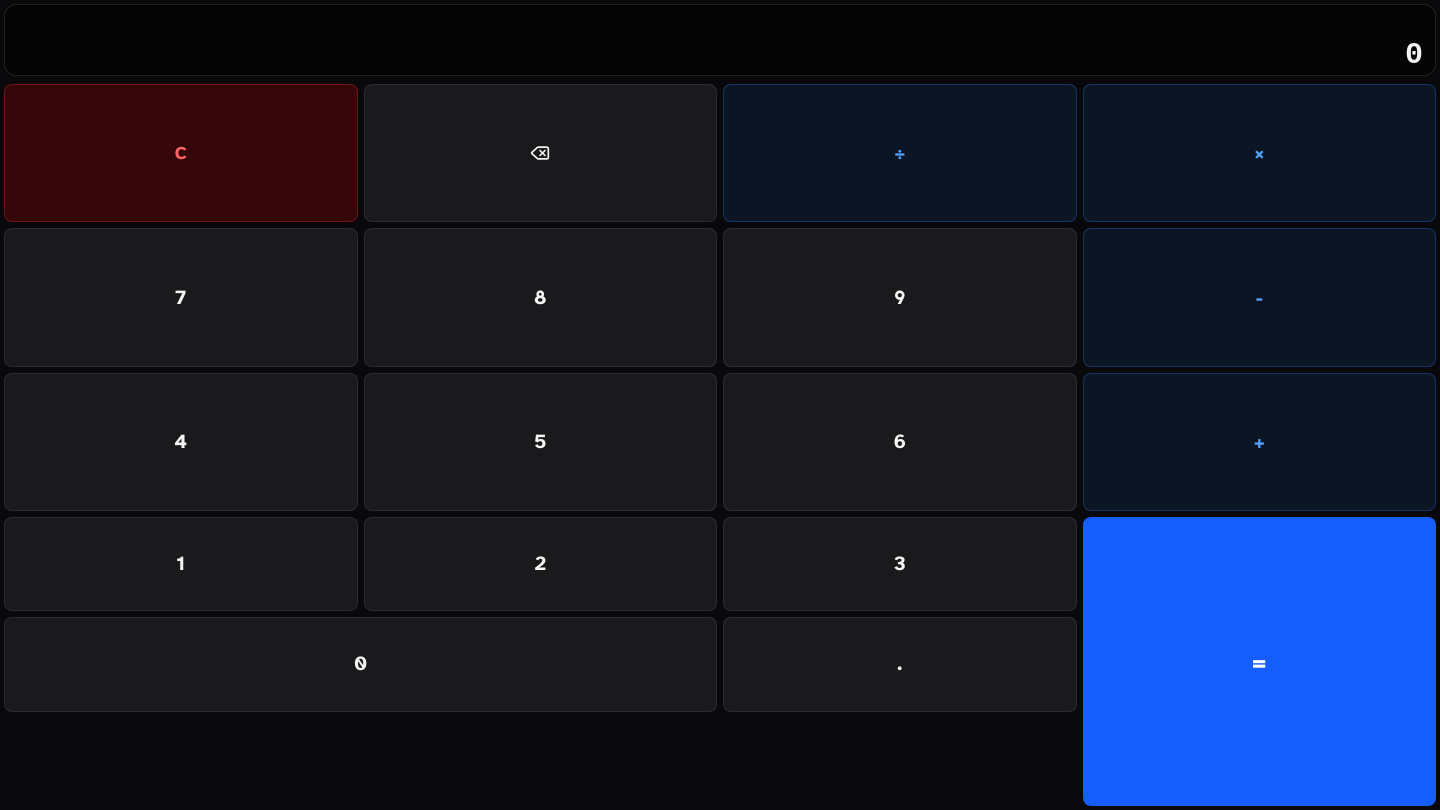
Test: CalculatorWidget › handles basic addition correctly
Step 1. Click the button "5" → (540, 442), box [364,373,717,511]
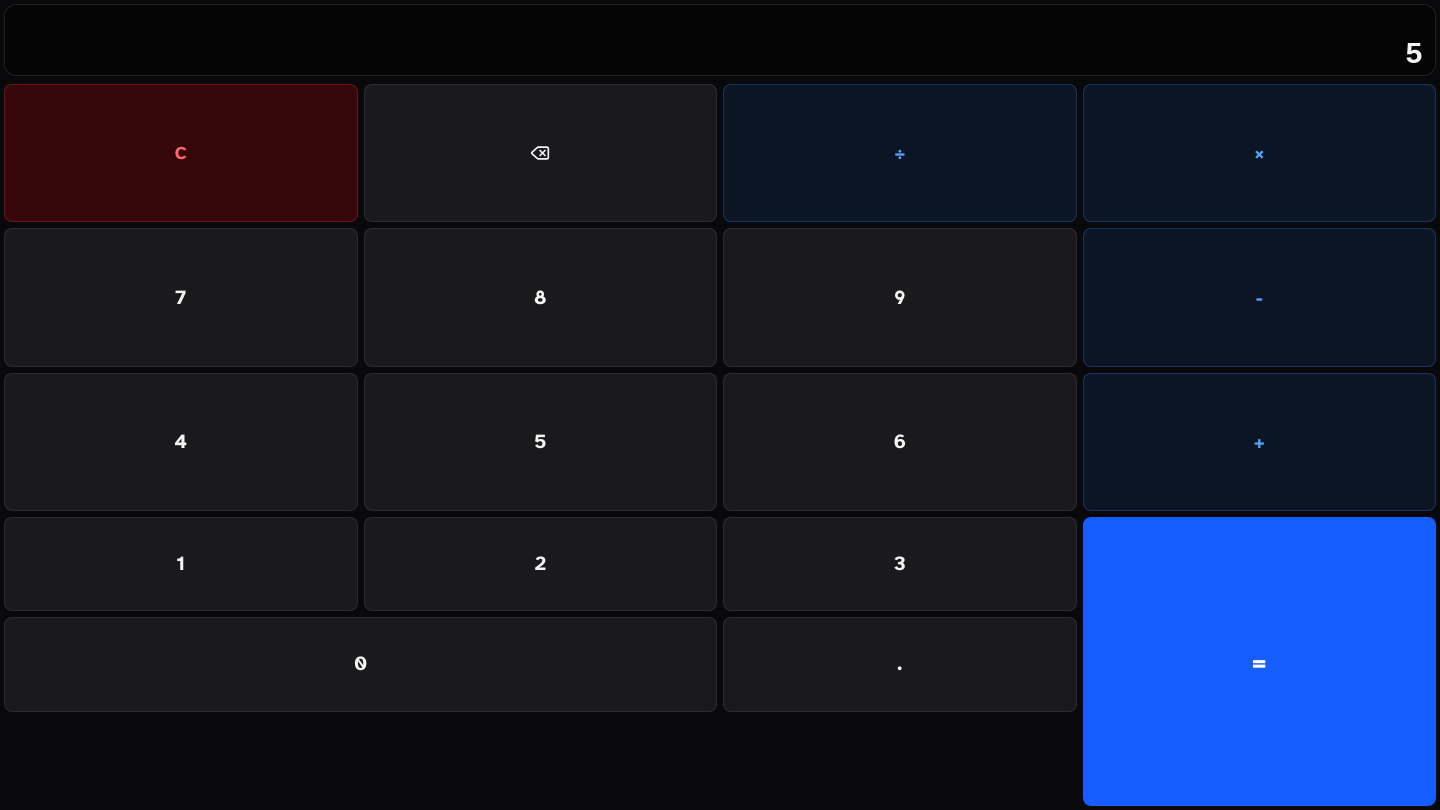
Step 2. Click the button named "Add" → (1259, 442), box [1082,373,1436,511]
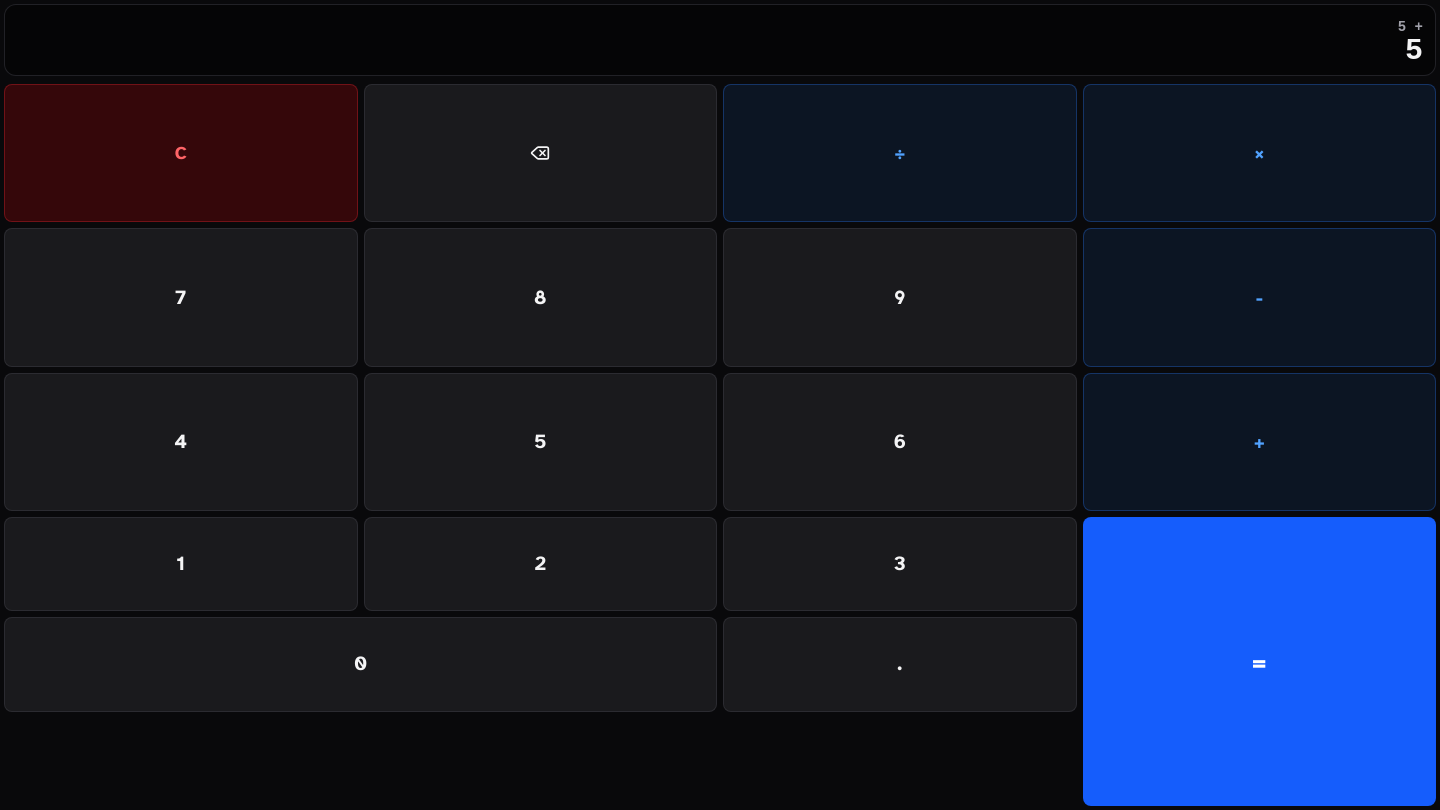
Step 3. Click the button "7" → (181, 298), box [4,228,358,367]
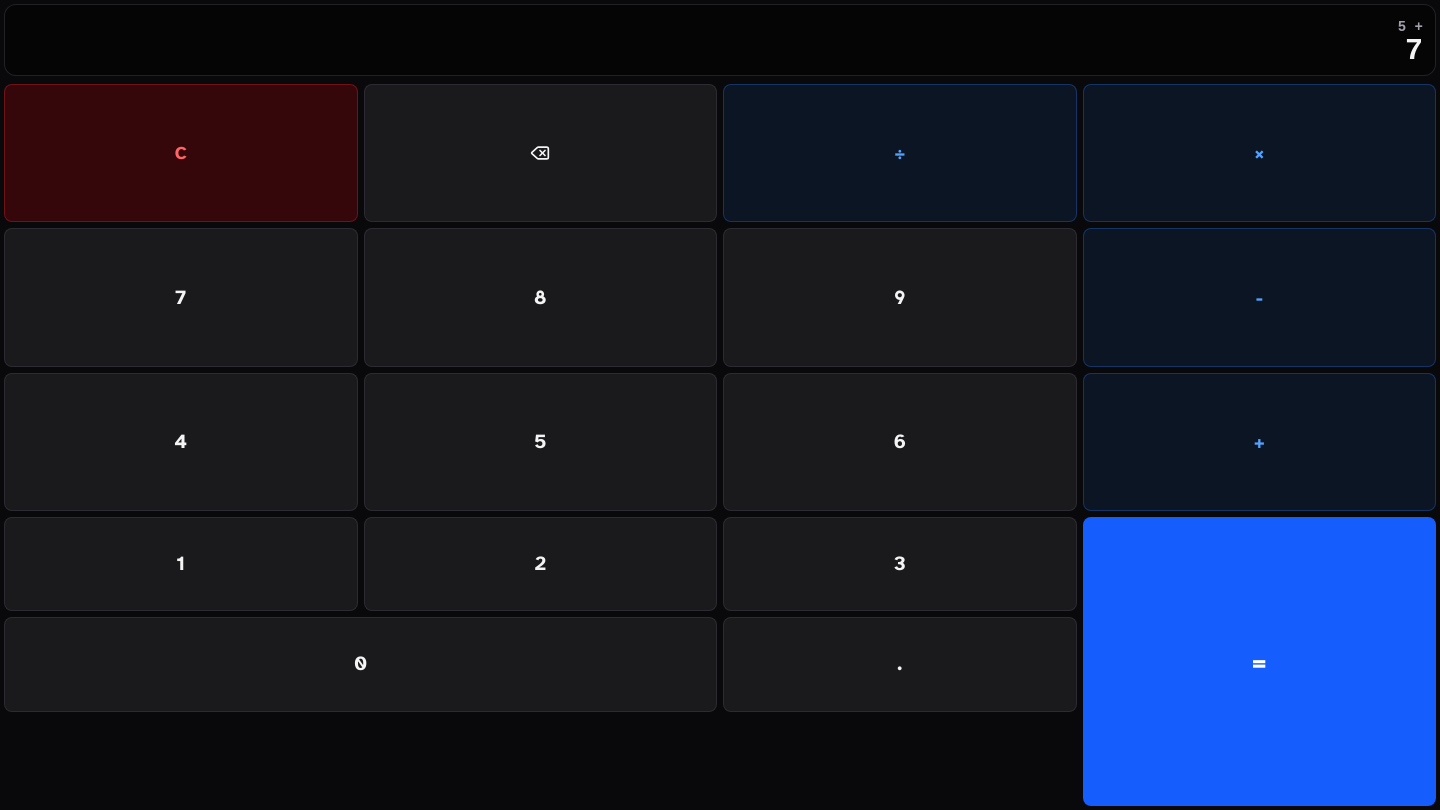
Step 4. Click the button named "Equals" → (1259, 662), box [1082,517,1436,806]
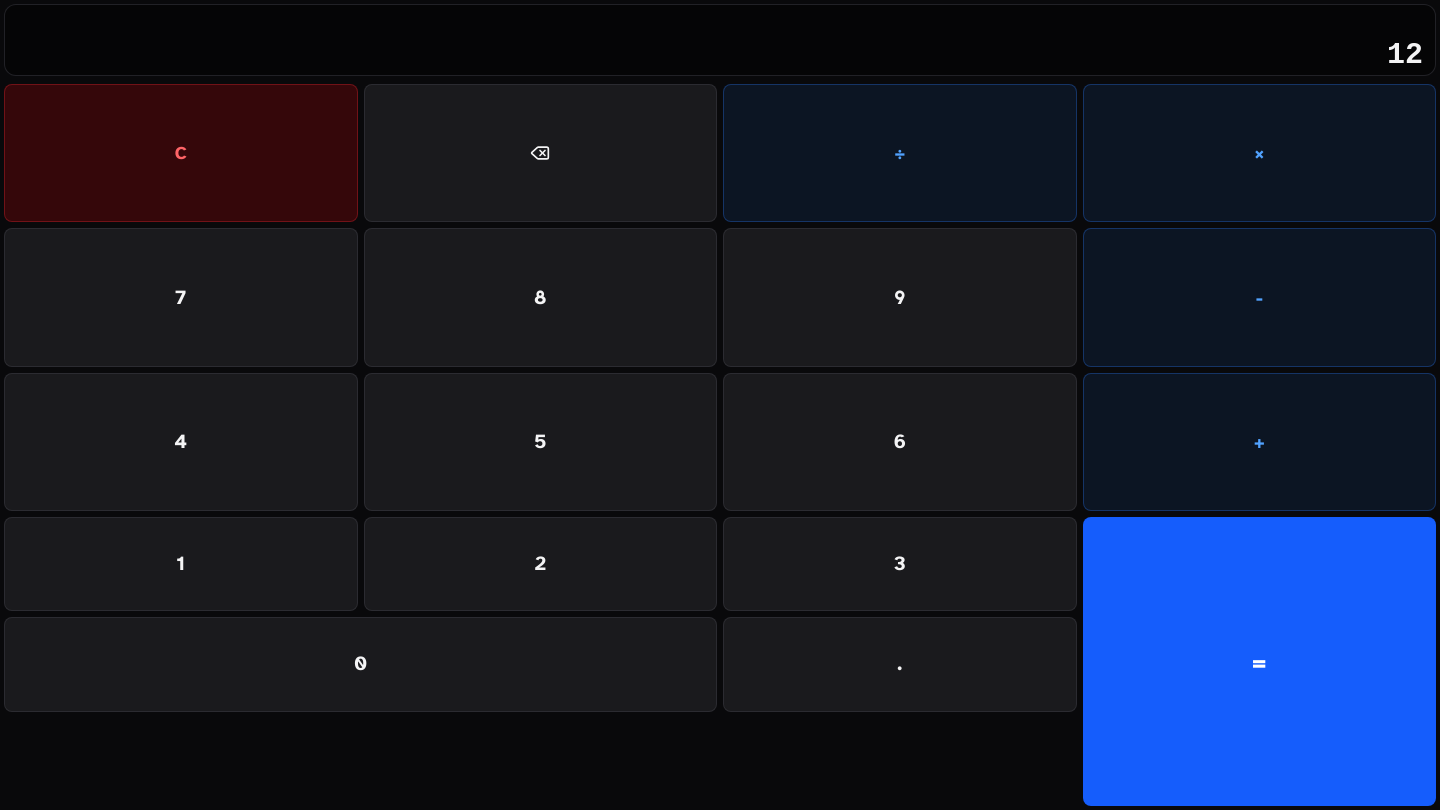
Now the text with test id "calc-display" reads "12", box [1387,38,1423,72]
